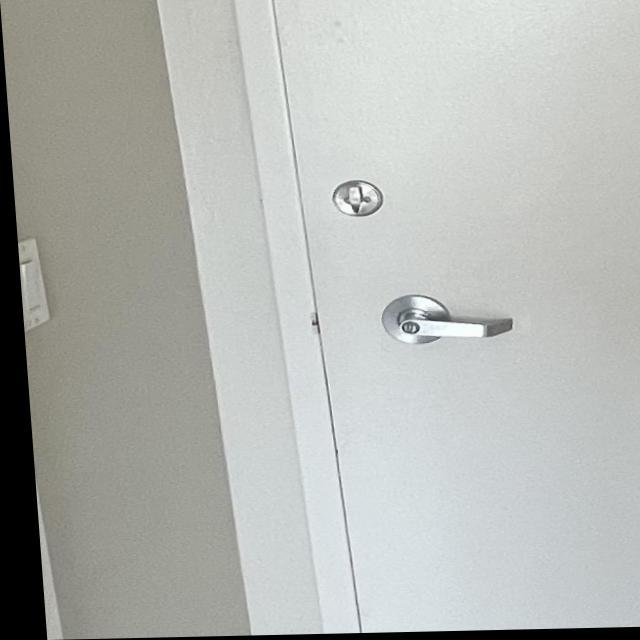door_handle: (352, 285, 525, 362)
